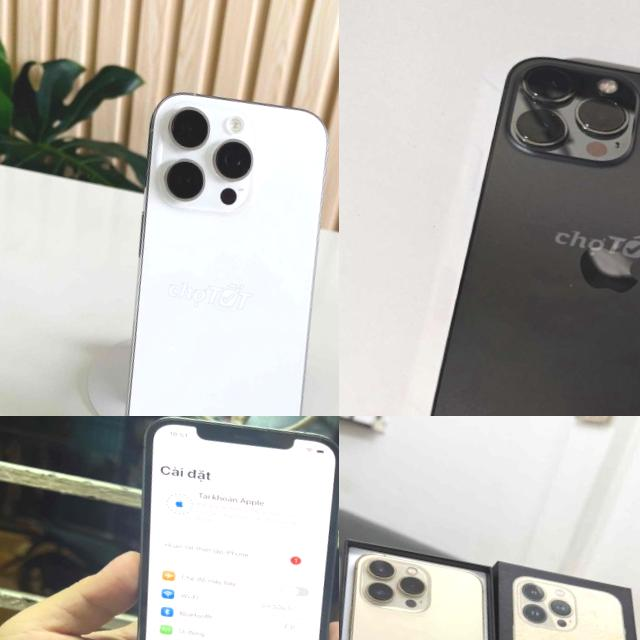gen_12_13: (400, 37, 640, 416), (137, 417, 339, 640), (339, 537, 525, 640)
gen_16: (79, 78, 339, 416)
